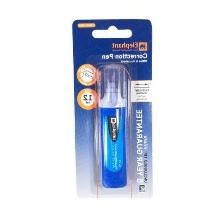book: (72, 16, 154, 203)
correction_fluid: (94, 61, 134, 191)
